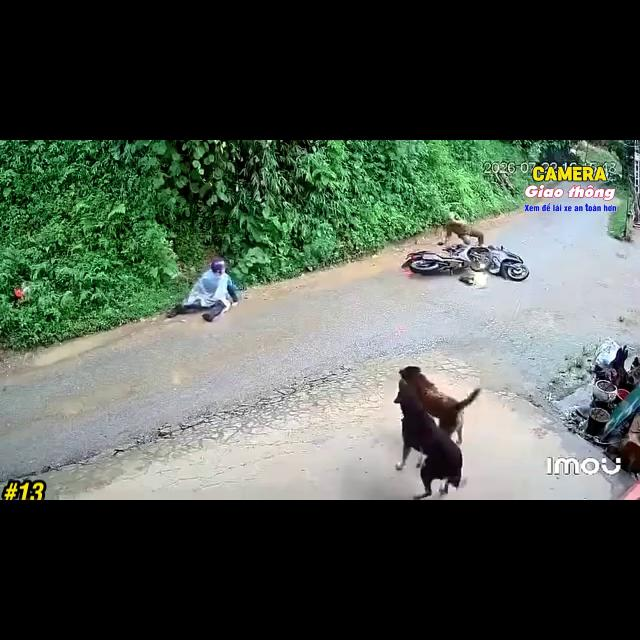motorcycle: (402, 244, 529, 281), (401, 244, 485, 275), (480, 245, 529, 281)
